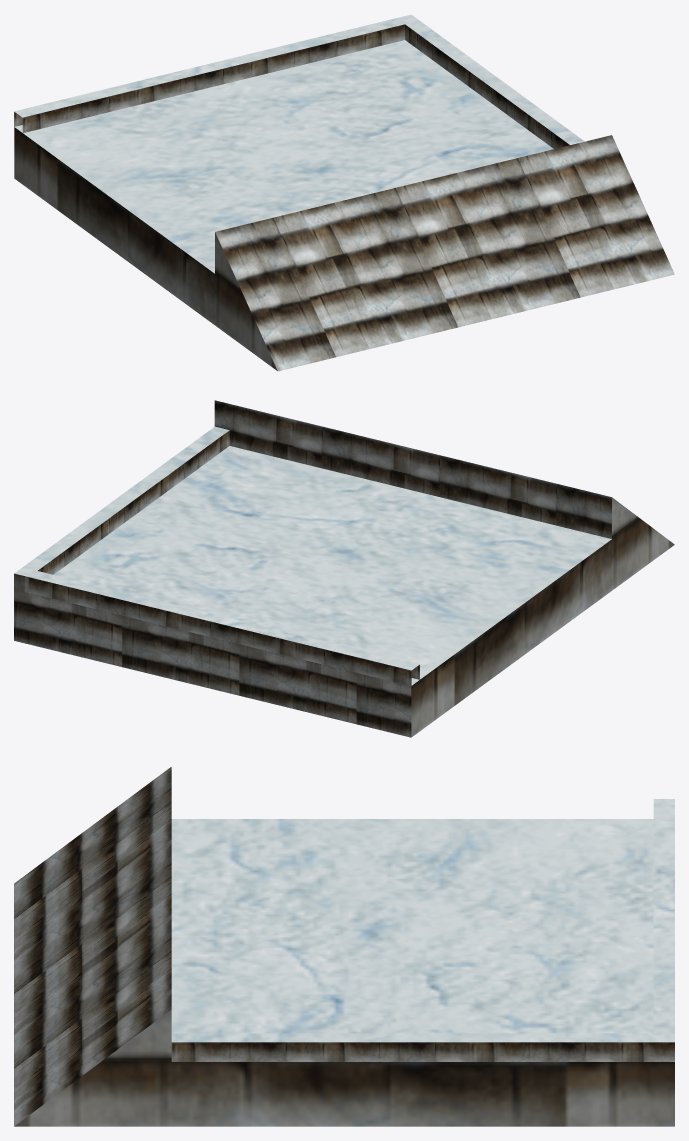
3 renders of one model, top to bottom at view 1: azimuth 30°, elevation 25°; view 2: azimuth 150°, elevation 25°; view 3: azimuth 270°, elevation 25°, orthographic. The views are drawn at different scales.
Visible parts, largest first — view 1: a83; view 2: a83; view 3: a83.
Part boxes in pixels (x1,y1,x2,y2): a83: [14, 14, 674, 371]; a83: [14, 400, 674, 737]; a83: [14, 767, 674, 1126].
Size of the model in its own units: 1017 by 229 by 1168.
